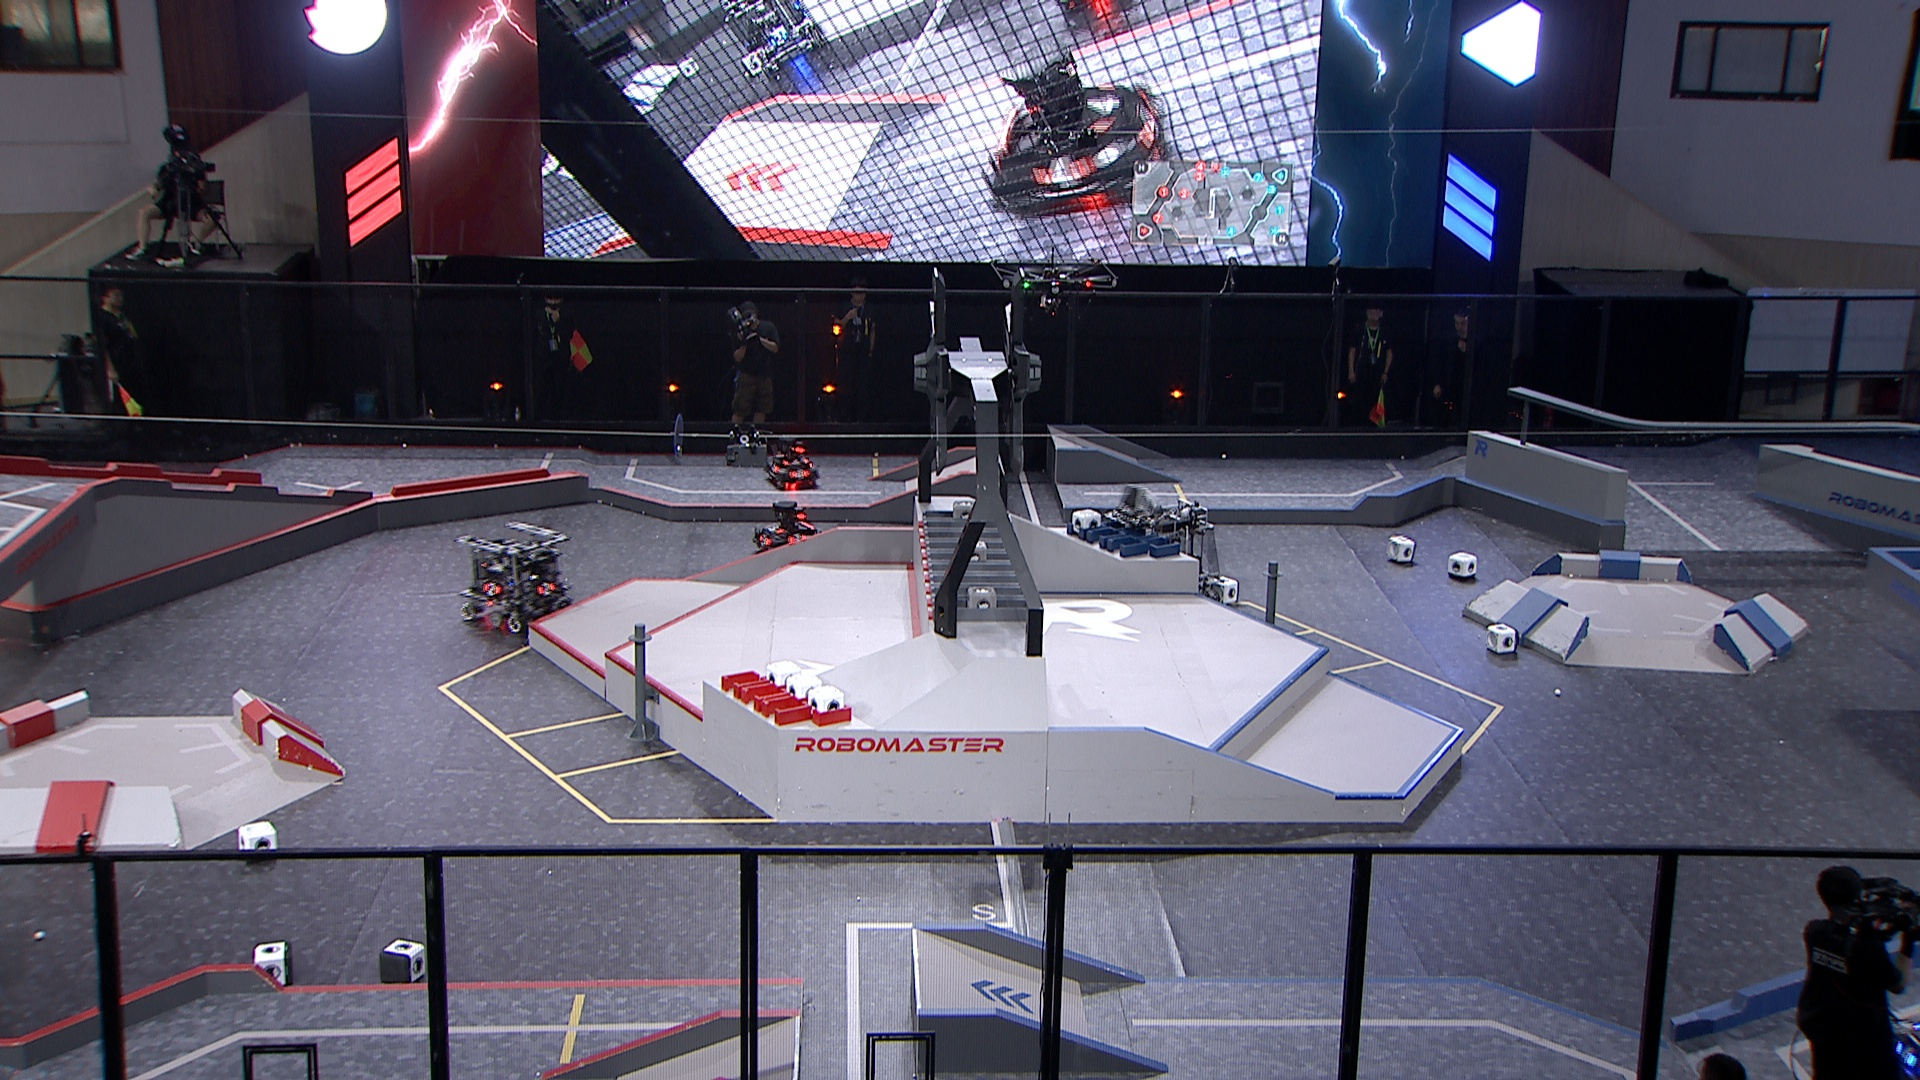armor: (1892, 1039, 1920, 1068), (479, 580, 502, 597), (534, 580, 556, 597), (785, 531, 808, 546), (782, 456, 812, 467), (756, 533, 773, 549), (765, 524, 787, 534), (789, 469, 808, 480), (767, 462, 782, 473)
car: (1100, 496, 1224, 616), (456, 520, 574, 636), (752, 500, 820, 556), (761, 439, 822, 489), (1887, 1007, 1920, 1080)
ignore: (988, 51, 1168, 215)
